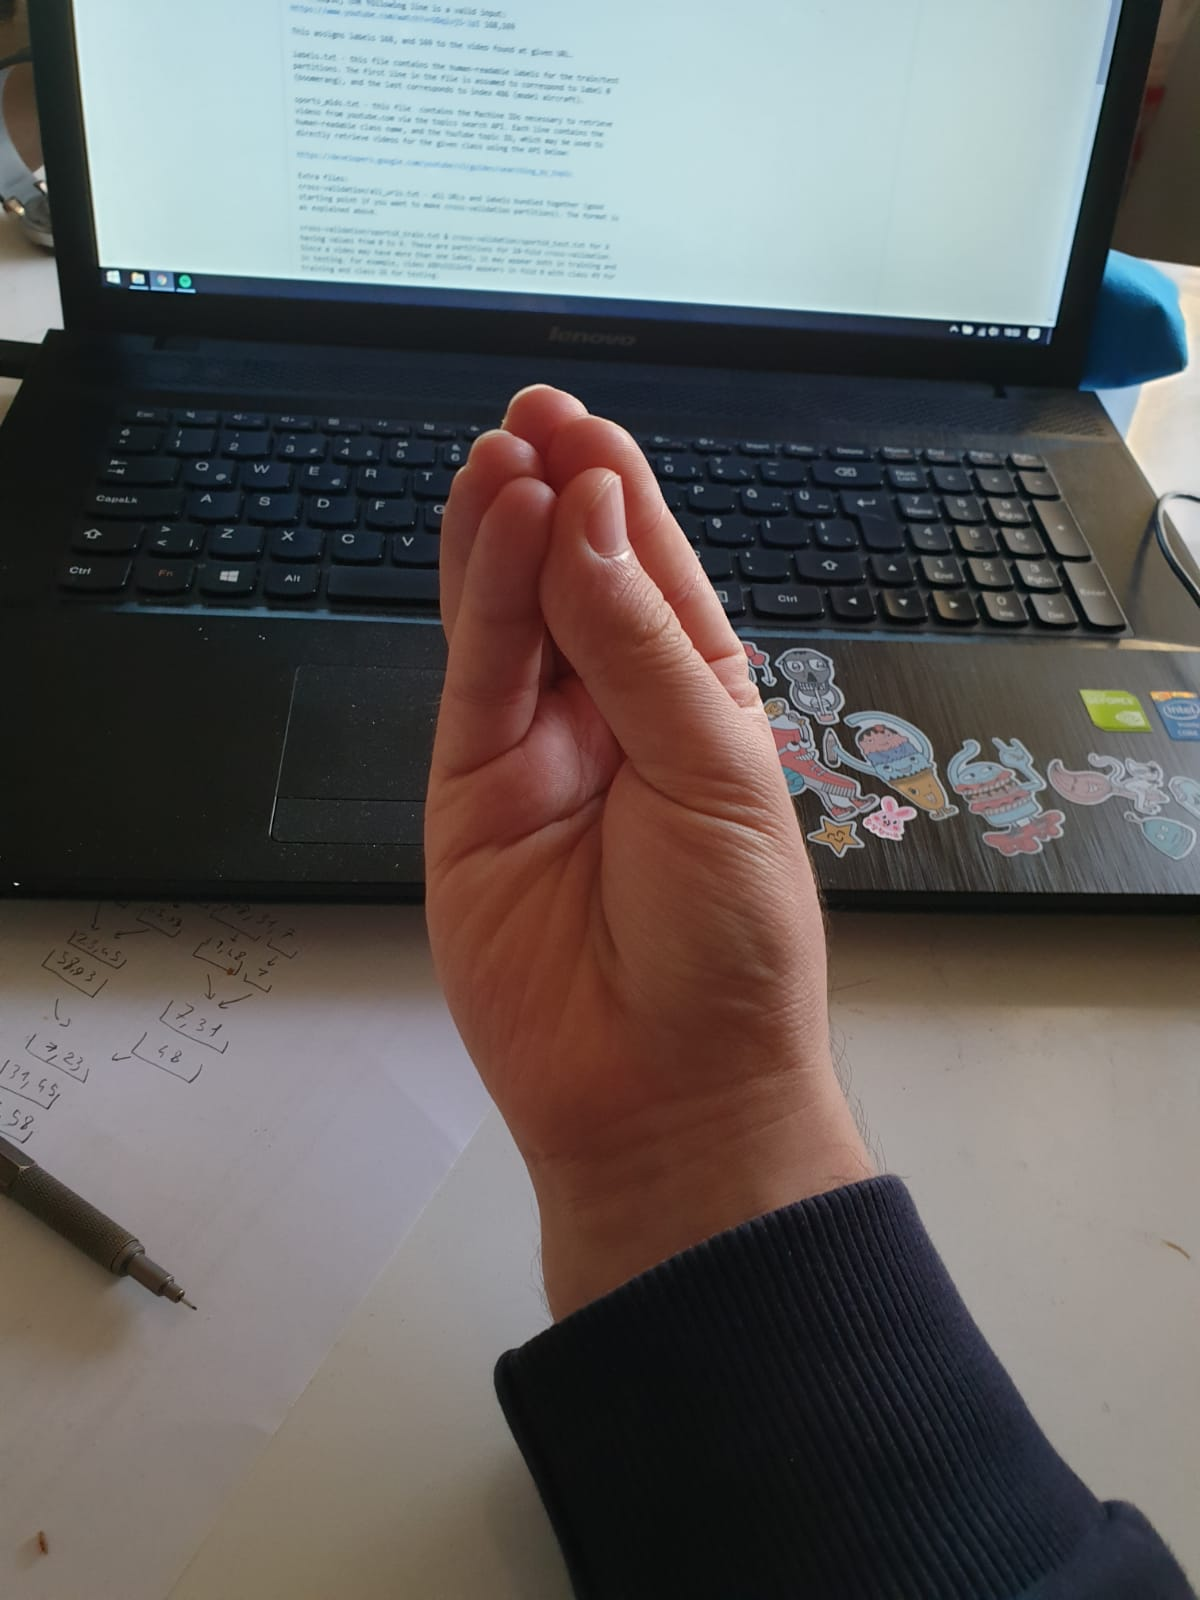Perfect: (411, 382, 884, 1330)
